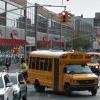Bus: (24, 40, 98, 97)
